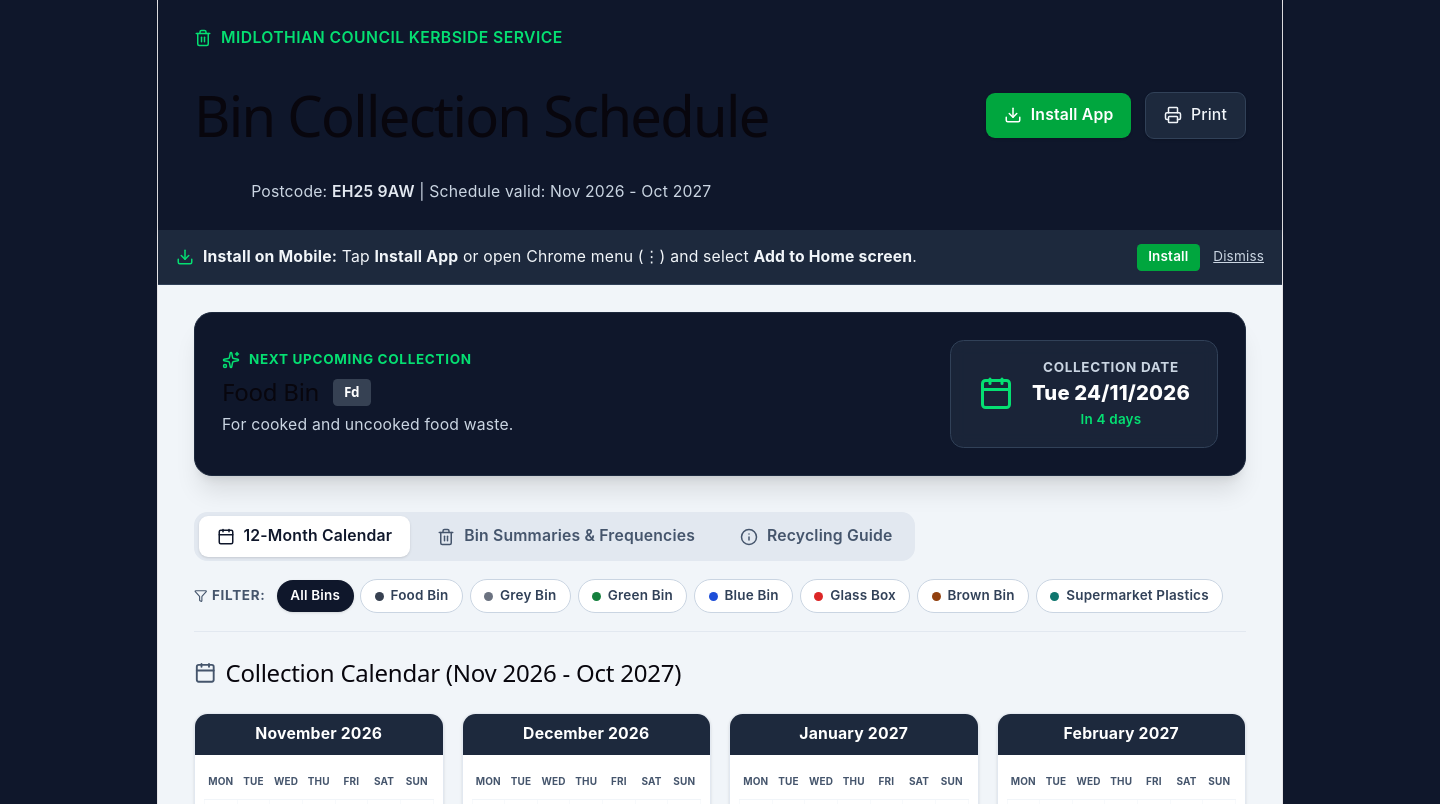
App interactions › allows the install banner to be dismissed
Step 1. Click the button "Dismiss" → click(1239, 257), box [1213, 248, 1264, 266]
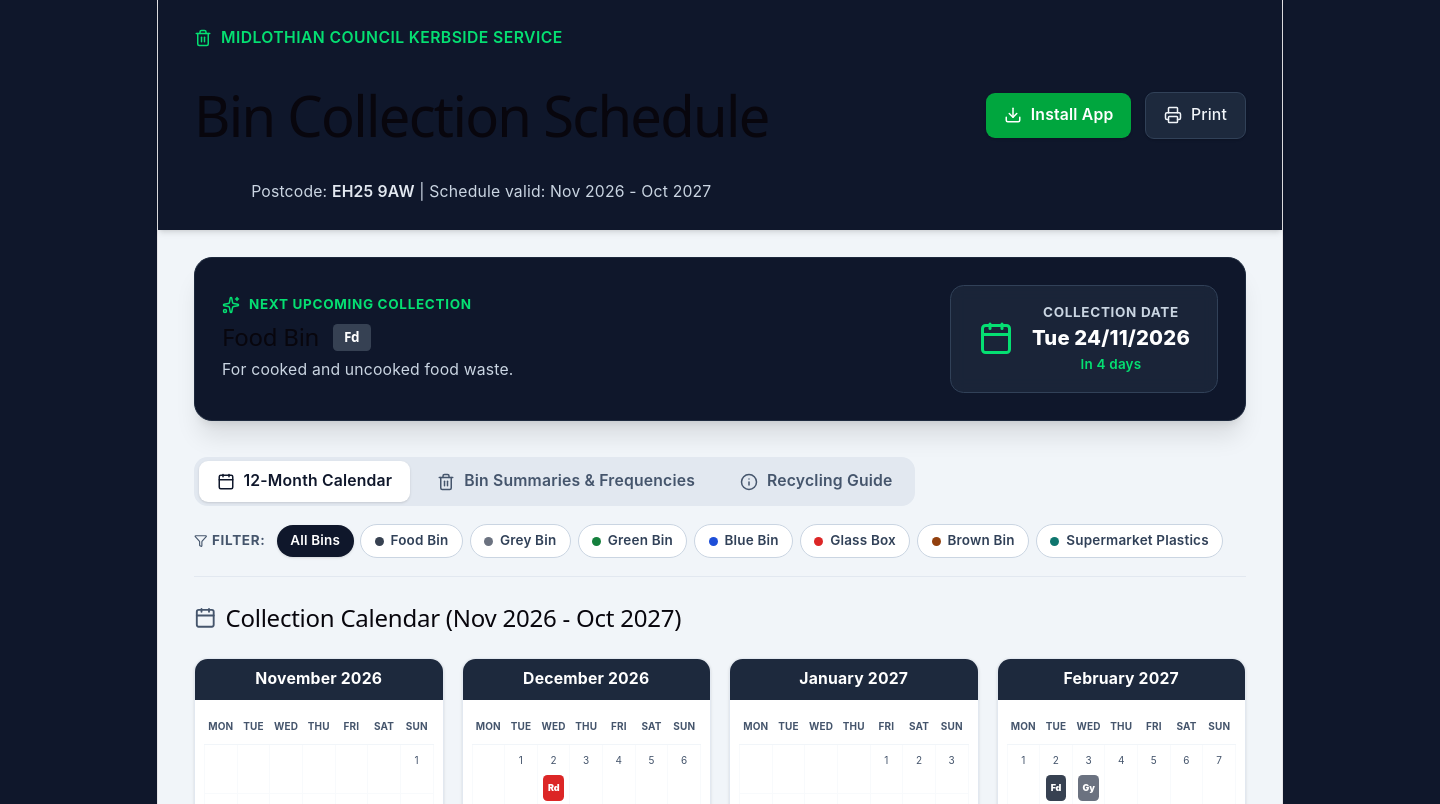
Check: the text "Install on Mobile" is gone
